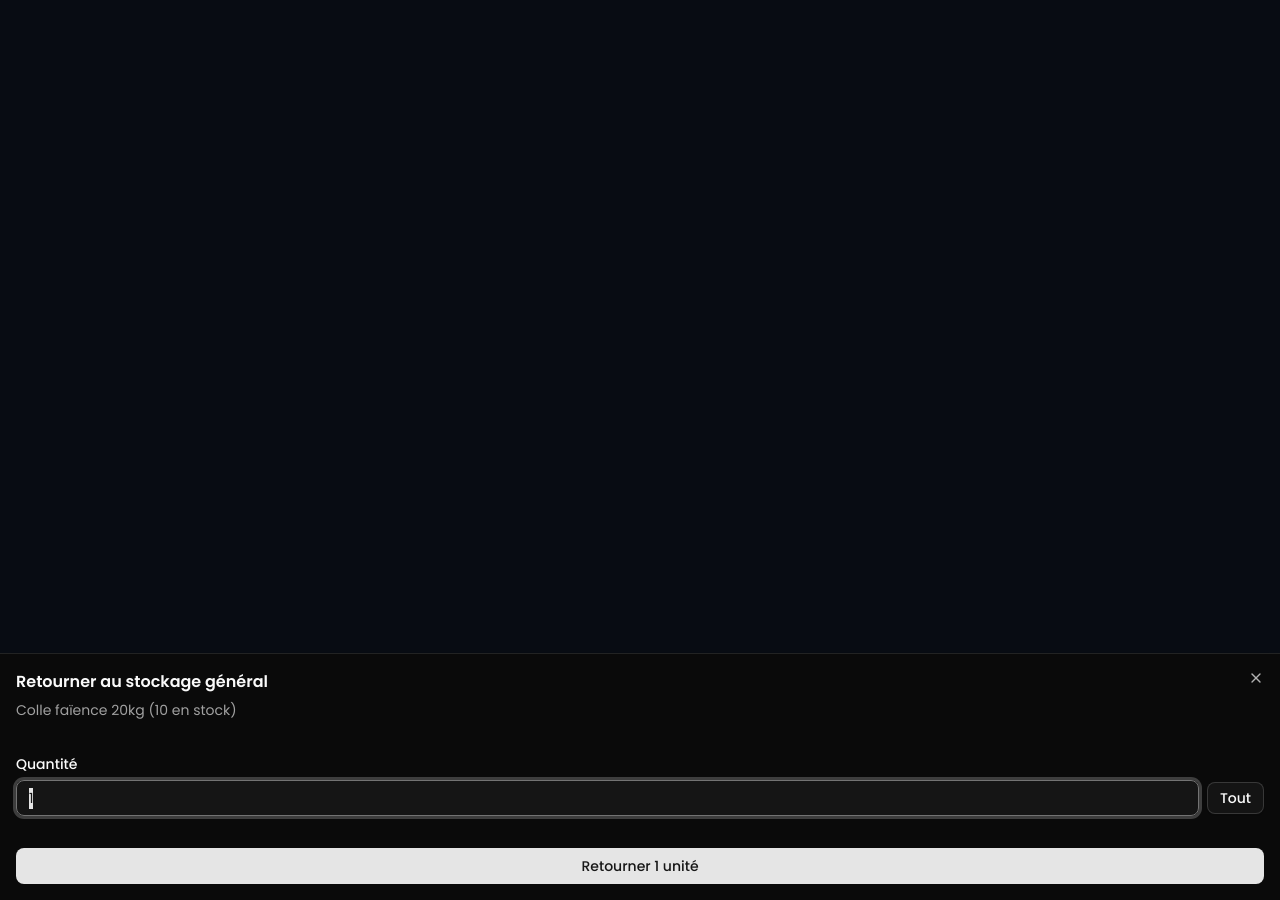
Scenario: TransferSheet › shows error when quantity is 0
Replace the text in the field labelled "Quantité" with "0" at (607, 798), box [16,780,1199,816]
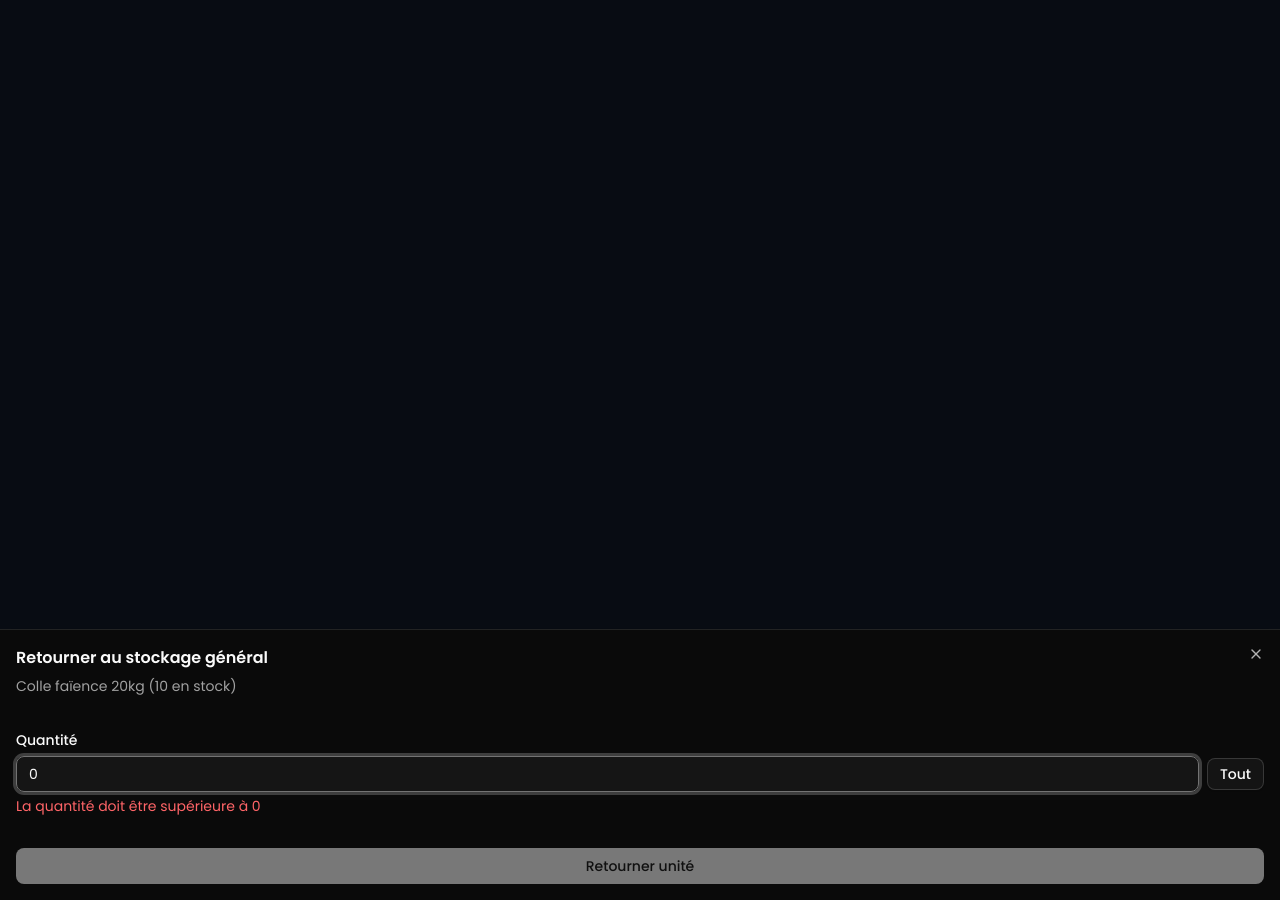
expect the text "La quantité doit être supérieure à 0" is shown: met, box [16,796,261,816]
